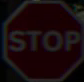Stop: (7, 18, 77, 63)
